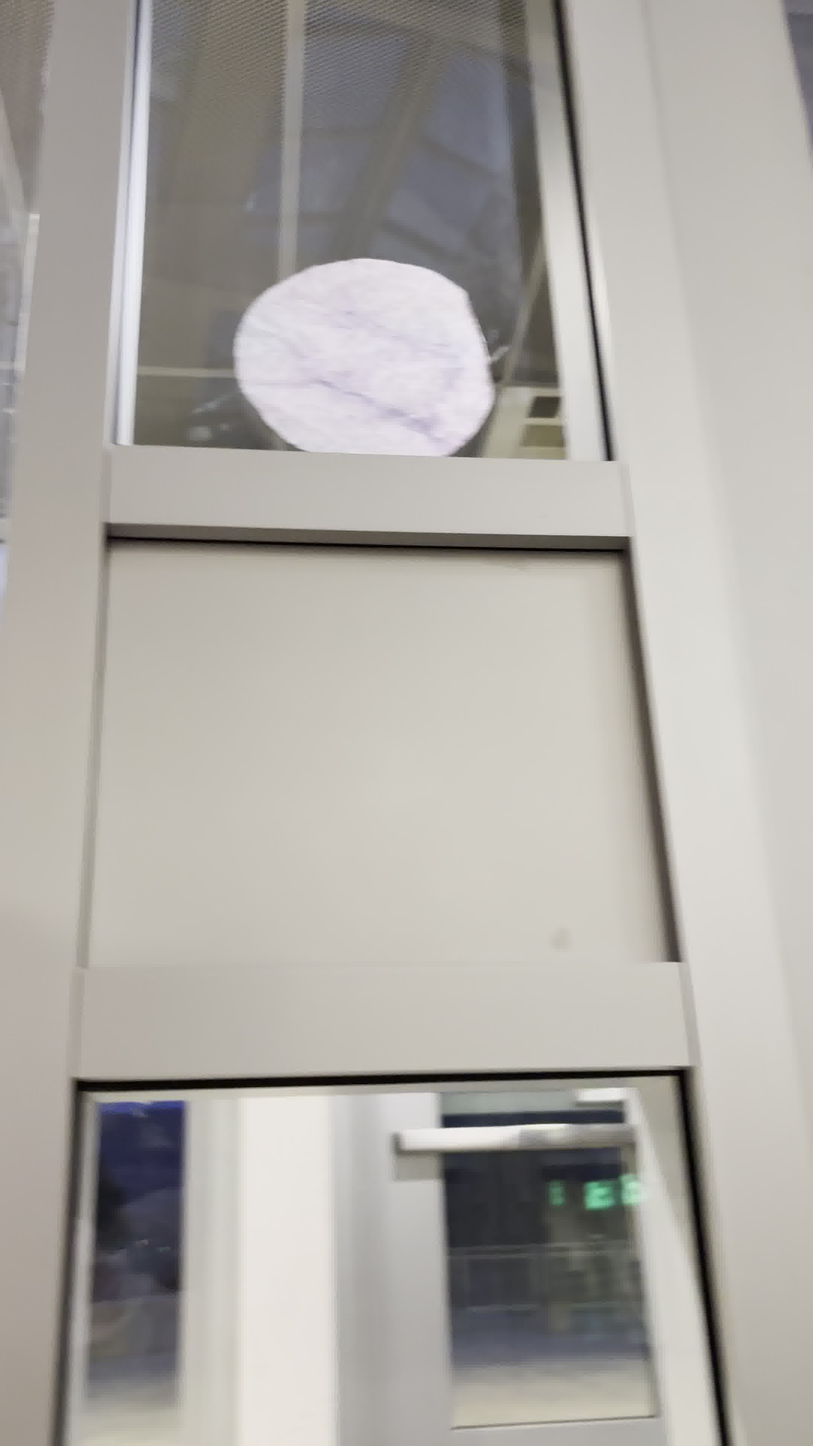Target: (229, 251, 497, 466)
